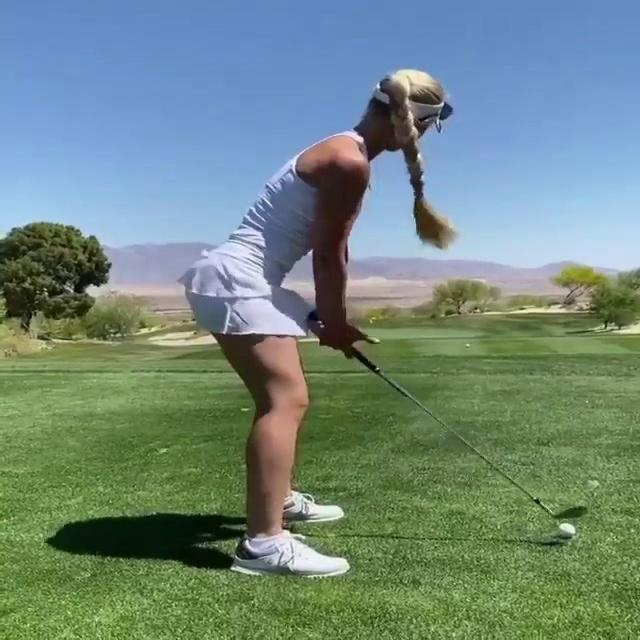golf ball: (559, 524, 575, 535)
golf club-handle: (307, 312, 587, 520)
golf club-head: (555, 506, 585, 519)
